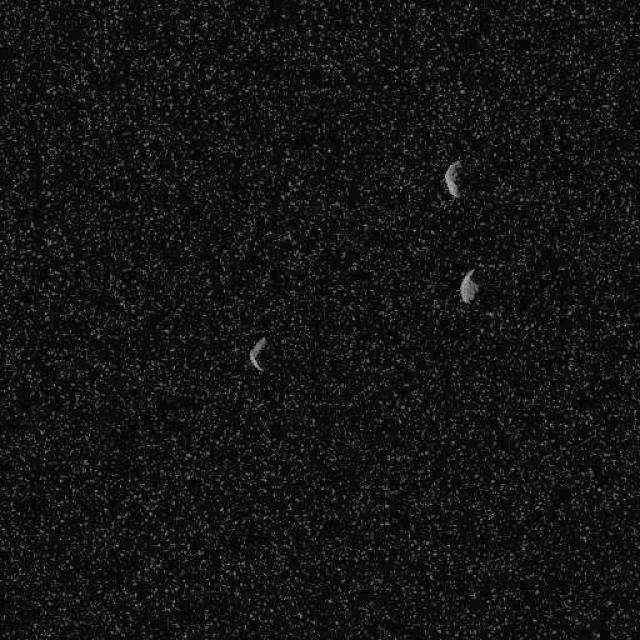D2: (442, 159, 462, 199), (458, 266, 478, 304), (248, 335, 268, 373)
